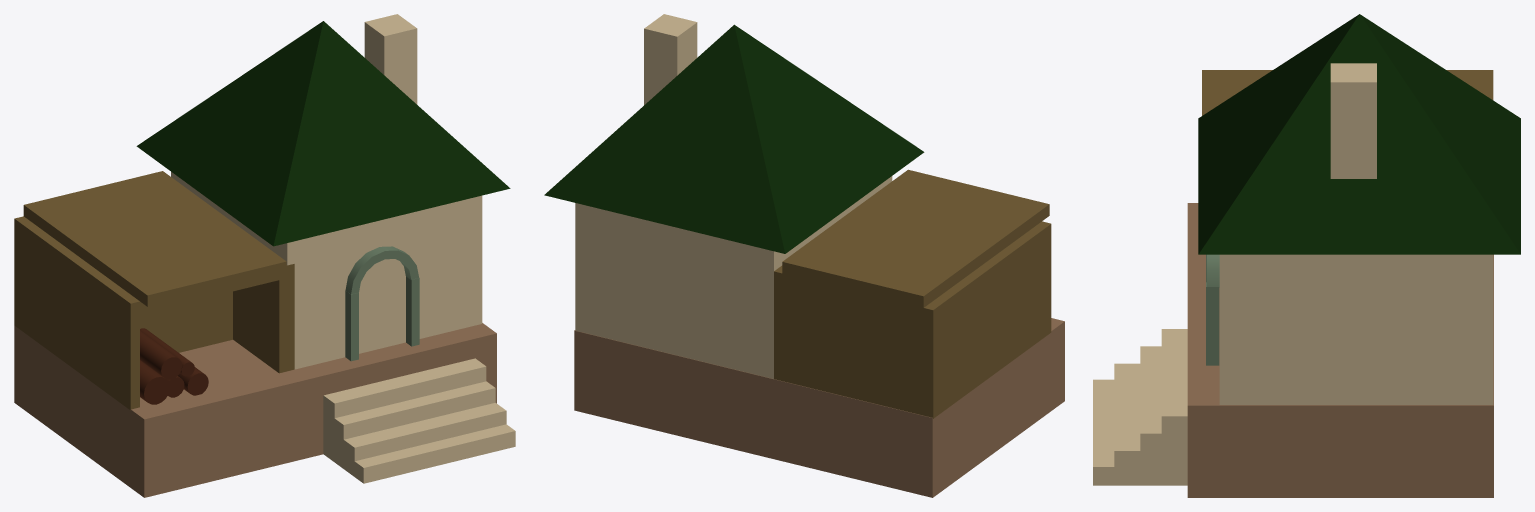
The model's file is Dom5.fbx.
The picture shows the model from 3 angles, left to right: view 1: azimuth 30°, elevation 25°; view 2: azimuth 150°, elevation 25°; view 3: azimuth 270°, elevation 25°; orthographic projection. The views are drawn at different scales.
Parts seen in each view (by area): view 1: Sześcian_2, dach, fundament, dom, schody, komin, drewno, Drzwi; view 2: Sześcian_2, dach, fundament, dom, komin; view 3: dach, dom, fundament, schody, komin, Sześcian_2, Drzwi.
Part boxes in pixels (x1,y1,x2,y2): Sześcian_2: [14, 171, 294, 410]; dach: [136, 21, 510, 246]; fundament: [14, 323, 496, 497]; dom: [171, 172, 482, 369]; schody: [323, 358, 515, 483]; komin: [364, 14, 417, 104]; drewno: [140, 328, 208, 404]; Drzwi: [345, 246, 419, 361]; Sześcian_2: [774, 169, 1051, 418]; dach: [544, 24, 924, 253]; fundament: [574, 318, 1064, 497]; dom: [575, 176, 892, 378]; komin: [644, 14, 697, 104]; dach: [1198, 14, 1520, 254]; dom: [1219, 254, 1493, 404]; fundament: [1187, 203, 1493, 497]; schody: [1093, 329, 1187, 485]; komin: [1330, 63, 1376, 178]; Sześcian_2: [1202, 70, 1493, 115]; Drzwi: [1206, 254, 1219, 365].
Size of the model in its own units: 313 by 292 by 265.
